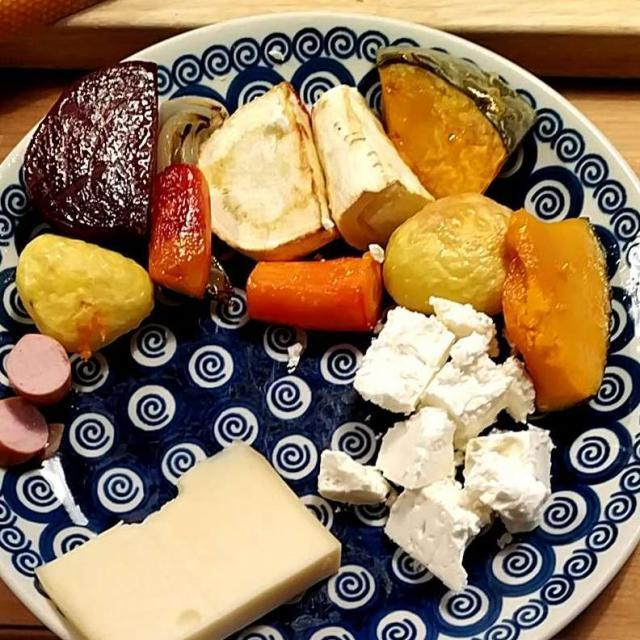baked-potato: (17, 197, 518, 357)
beetroot: (33, 58, 174, 256)
cake: (149, 95, 225, 170)
carrot: (154, 166, 379, 328)
cheese: (315, 299, 570, 590), (42, 442, 333, 632)
pumpkin: (369, 53, 617, 413)
sausage: (3, 323, 80, 454)
